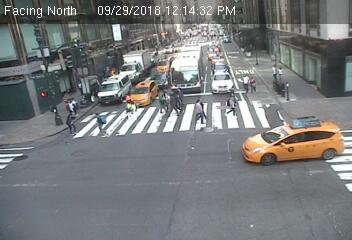car: (241, 117, 346, 164), (171, 44, 201, 92), (117, 49, 148, 79), (97, 75, 130, 101), (130, 79, 156, 106), (209, 75, 235, 93), (152, 72, 169, 87), (211, 63, 230, 75), (155, 58, 167, 72), (211, 53, 226, 64), (206, 46, 219, 58), (148, 51, 159, 64), (162, 45, 174, 55)
